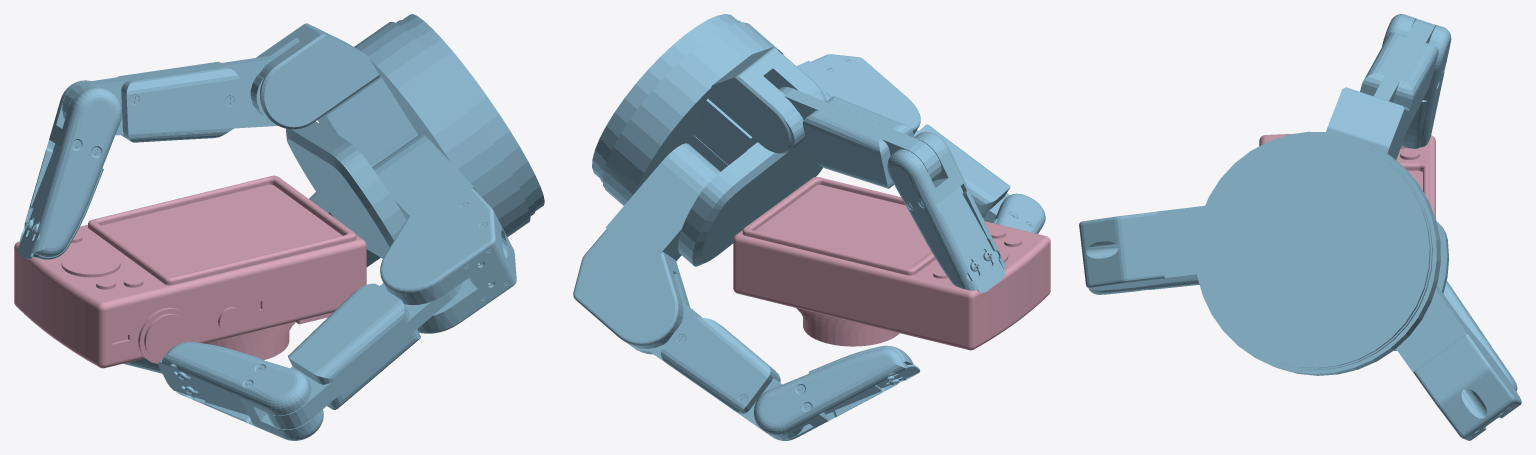
The picture shows the model from 3 angles, left to right: view 1: azimuth 30°, elevation 25°; view 2: azimuth 150°, elevation 25°; view 3: azimuth 270°, elevation 25°; orthographic projection. The views are drawn at different scales.
Visible parts, largest first — view 1: world; view 2: world; view 3: world.
Part boxes in pixels (x1,y1,x2,y2): world: (14,14,544,440); world: (573,14,1050,440); world: (1079,14,1521,440).
Bounding box in the file's own units: 0.1933 × 0.1489 × 0.1622.
